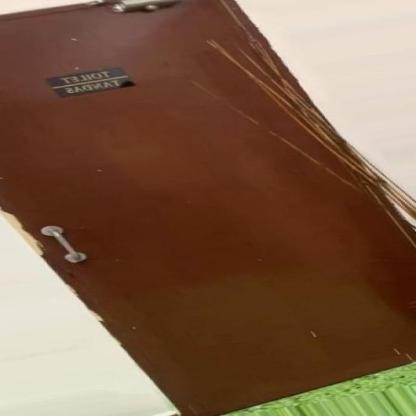door: (0, 0, 416, 390)
